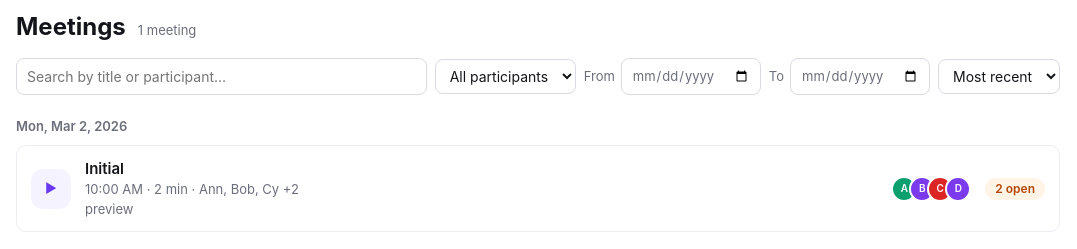
Test: library › a slow, stale response never overwrites a newer one
The image size is (1077, 249).
Expected: the text "Initial" is shown, [85, 159, 124, 178]
In the search field named "Search meetings": (221, 76) [16, 58, 427, 95], type "a"
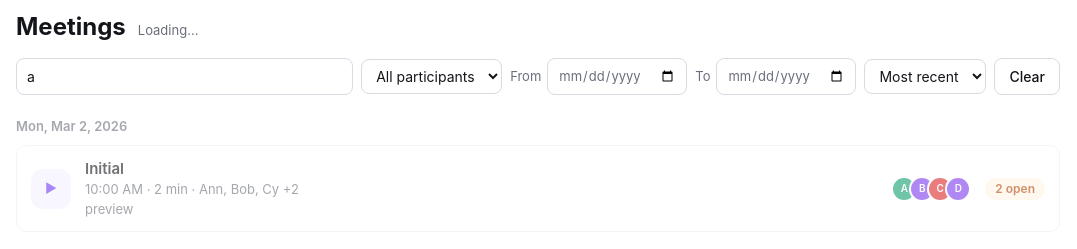
Replace the text in the search field named "Search meetings" with "ab": (185, 76) [16, 58, 353, 95]
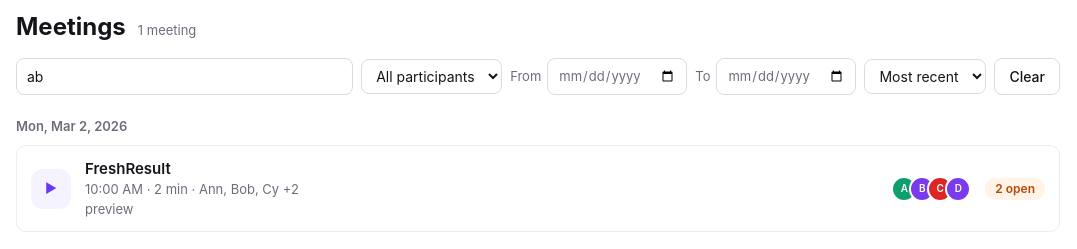
Expected: the text "FreshResult" is shown, [85, 159, 171, 178]
